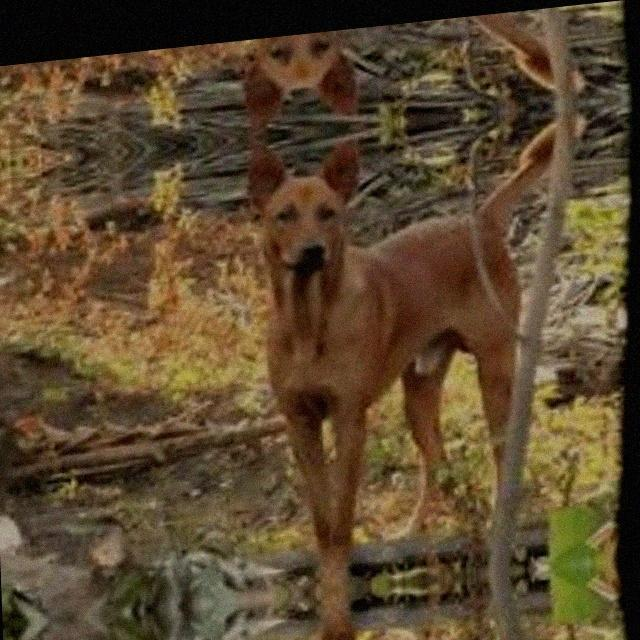dog: (216, 111, 592, 588), (213, 6, 576, 132), (234, 575, 596, 640)
